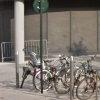Bicycle: (22, 51, 94, 99)
